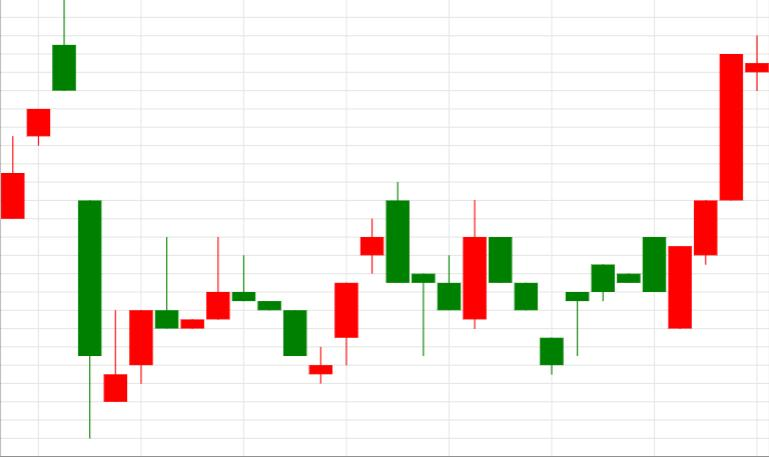morning_star_rise: (233, 254, 359, 385)
